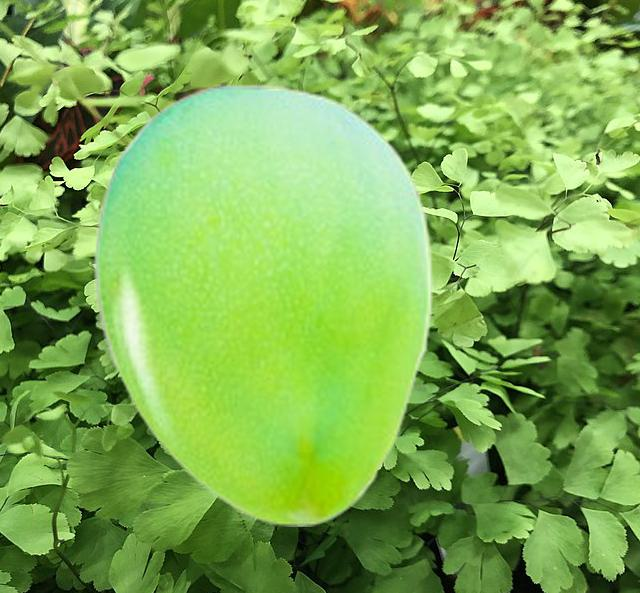green_mango: (92, 83, 432, 525)
